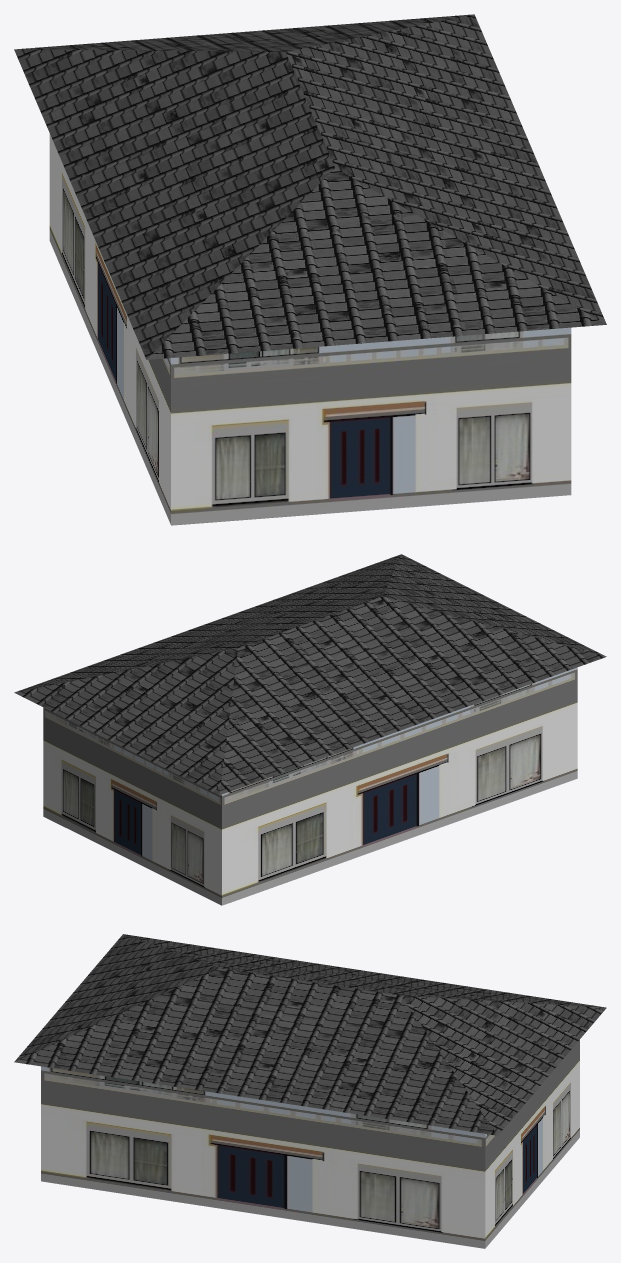
3 views of the same model, one above another, from view 1: azimuth 30°, elevation 25°; view 2: azimuth 150°, elevation 25°; view 3: azimuth 270°, elevation 25° (orthographic). The views are drawn at different scales.
Visible parts, largest first — view 1: CityEngineMaterial_8_m, CityEngineMaterial_7_m; view 2: CityEngineMaterial_8_m, CityEngineMaterial_7_m; view 3: CityEngineMaterial_8_m, CityEngineMaterial_7_m.
Part boxes in pixels (x1,y1,x2,y2): CityEngineMaterial_8_m: (14,14,606,359); CityEngineMaterial_7_m: (49,133,571,525); CityEngineMaterial_8_m: (14,554,606,795); CityEngineMaterial_7_m: (43,667,577,905); CityEngineMaterial_8_m: (14,934,606,1135); CityEngineMaterial_7_m: (41,1040,579,1248).
Bounding box in the file's own units: 21.25 × 8.73 × 26.4.
